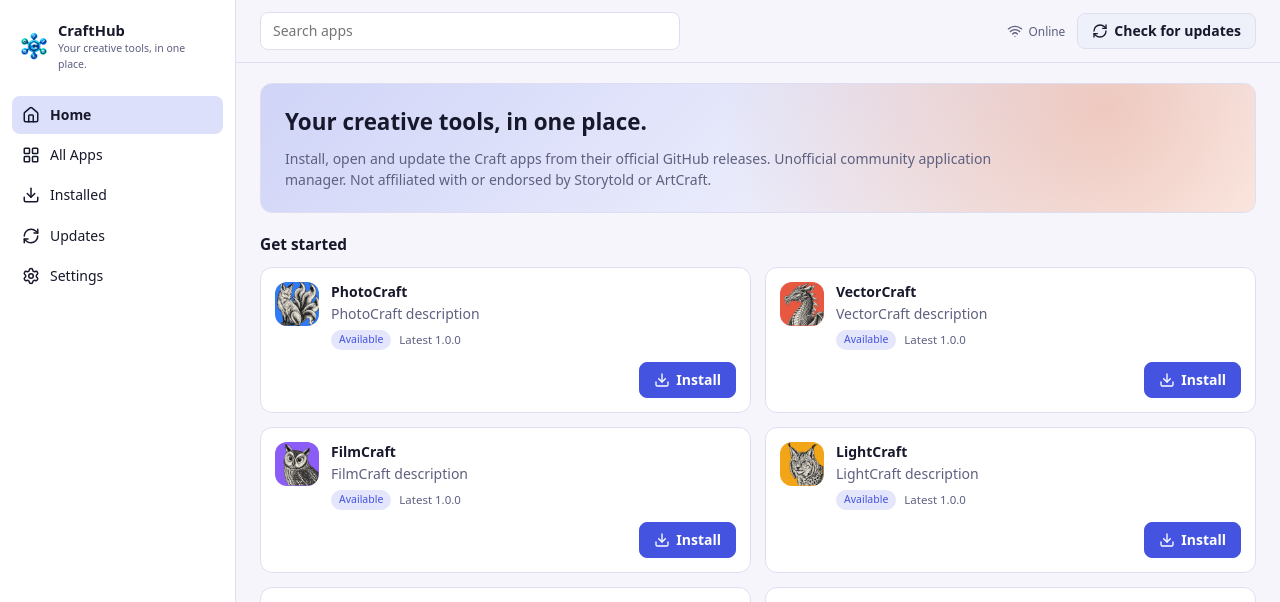
install flow › installs through the backend and shows real progress with cancel
Click the button "All Apps". click: click(118, 155)
box: [12, 136, 223, 174]
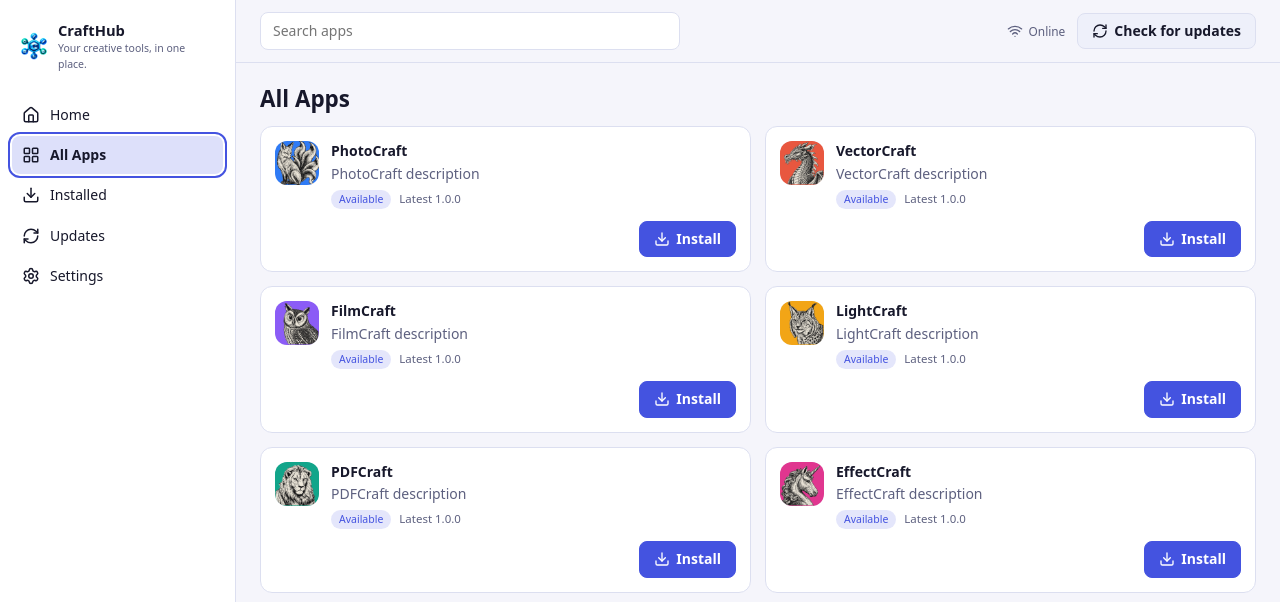
Click the button with aria-label "Install PhotoCraft 1.0.0". click: click(688, 239)
box: [639, 221, 736, 257]
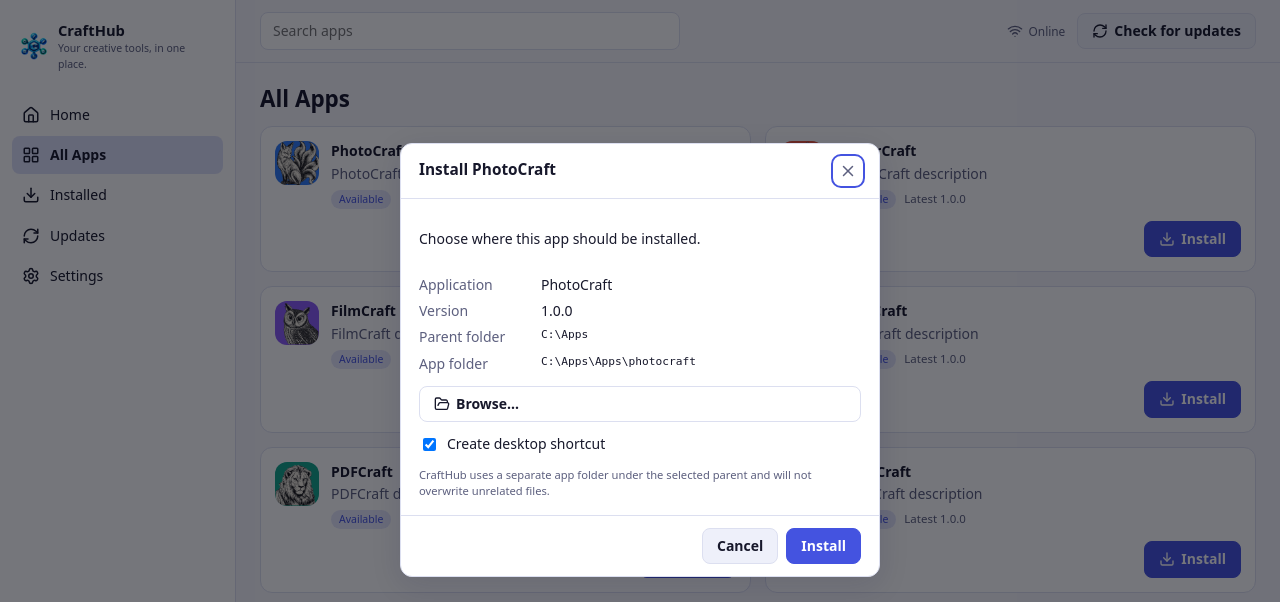
Click the button "Install". click: click(824, 546)
box: [786, 528, 861, 564]
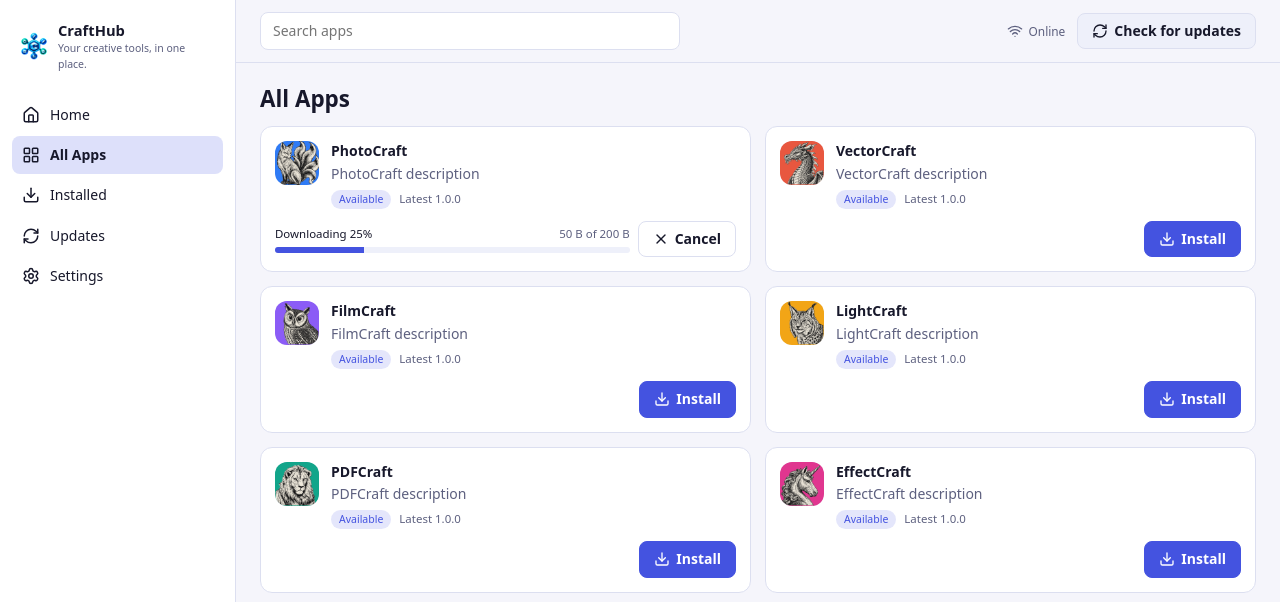
Click the button "Cancel". click: click(687, 239)
box: [638, 221, 736, 257]
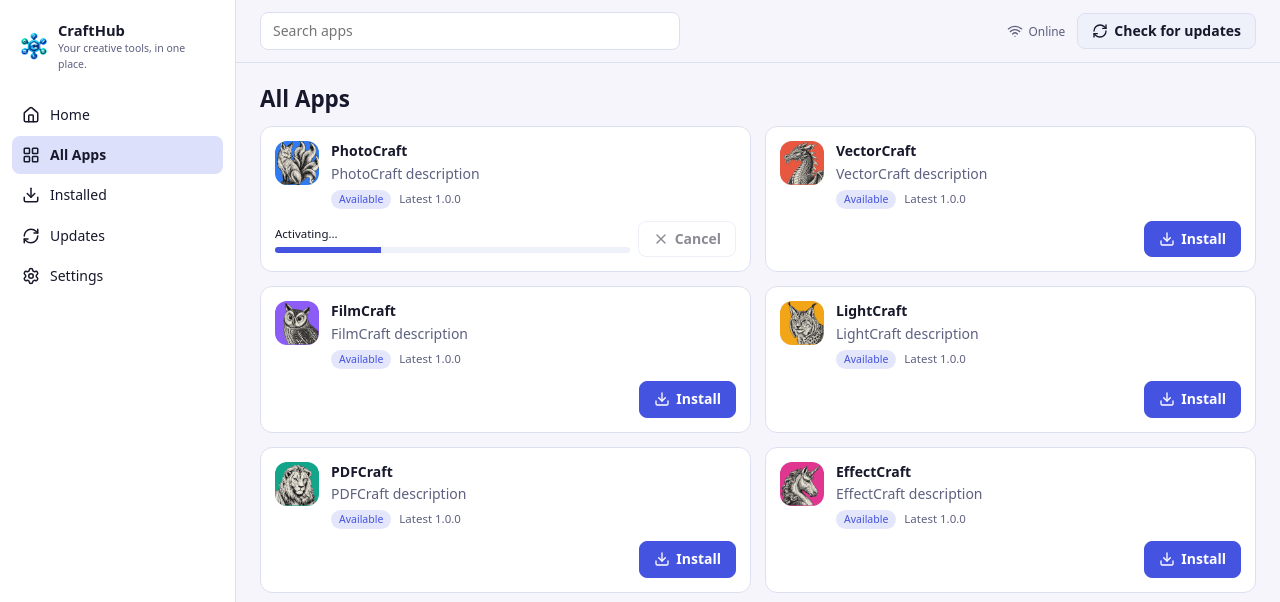
expect the button "Cancel" is disabled: met, box [638, 221, 736, 257]
